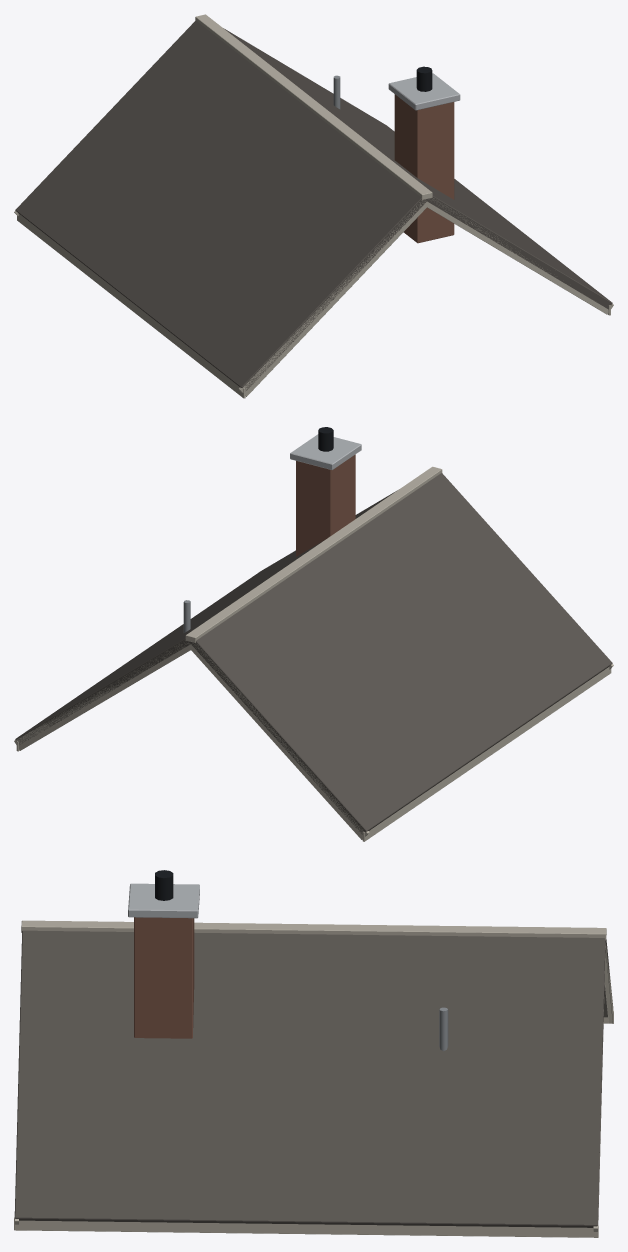
File: house5_roof.glb
3 views of the same model, one above another, from view 1: azimuth 30°, elevation 25°; view 2: azimuth 150°, elevation 25°; view 3: azimuth 270°, elevation 25° (orthographic). The views are drawn at different scales.
Parts seen in each view (by area): view 1: house5_roof; view 2: house5_roof; view 3: house5_roof.
Boxes of the visible parts, box(x1,y1,x2,y2) form: house5_roof: box(14, 14, 613, 398); house5_roof: box(14, 427, 613, 841); house5_roof: box(14, 870, 613, 1237).
Size of the model in its own units: 7.25 by 4.21 by 8.12.
